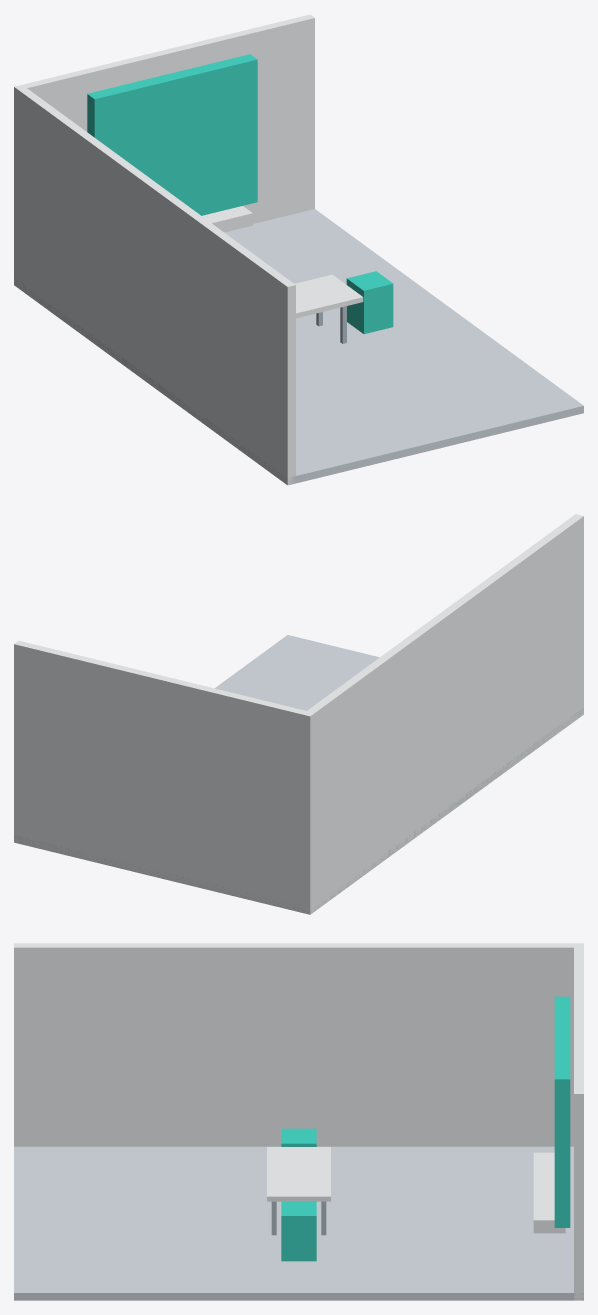
3 views of the same model, one above another, from view 1: azimuth 30°, elevation 25°; view 2: azimuth 150°, elevation 25°; view 3: azimuth 270°, elevation 25° (orthographic). The views are drawn at different scales.
Visible parts, largest first — view 1: Exhibition Booth Concept; view 2: Exhibition Booth Concept; view 3: Exhibition Booth Concept.
Boxes of the visible parts, x1,y1,x2,y2 form: Exhibition Booth Concept: [14, 14, 583, 485]; Exhibition Booth Concept: [14, 514, 583, 914]; Exhibition Booth Concept: [14, 943, 583, 1300].
Size of the model in its own units: 5 by 3.2 by 8.
